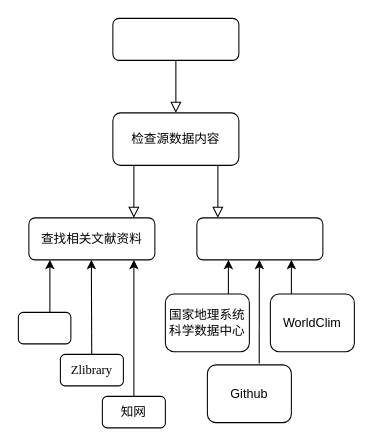
Some shapes in this 373 by 446 pixel diagram are drawn without their labels. The centre of each missing label's shape, as x and y in pixels:
"拓展数据" goes at (x=259, y=238).
"知乎" goes at (x=44, y=327).
"确定Topic选取" goes at (x=175, y=38).
